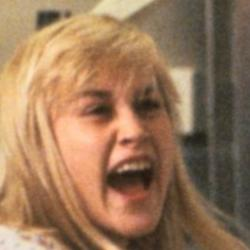face: (5, 15, 229, 245)
